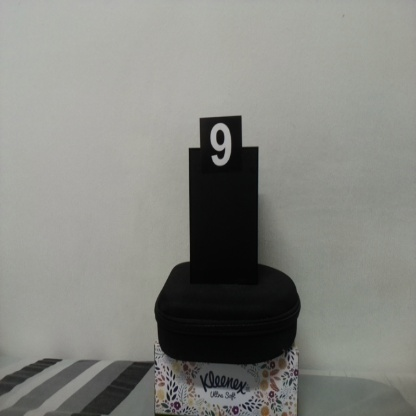id_9: (200, 118, 242, 182)
